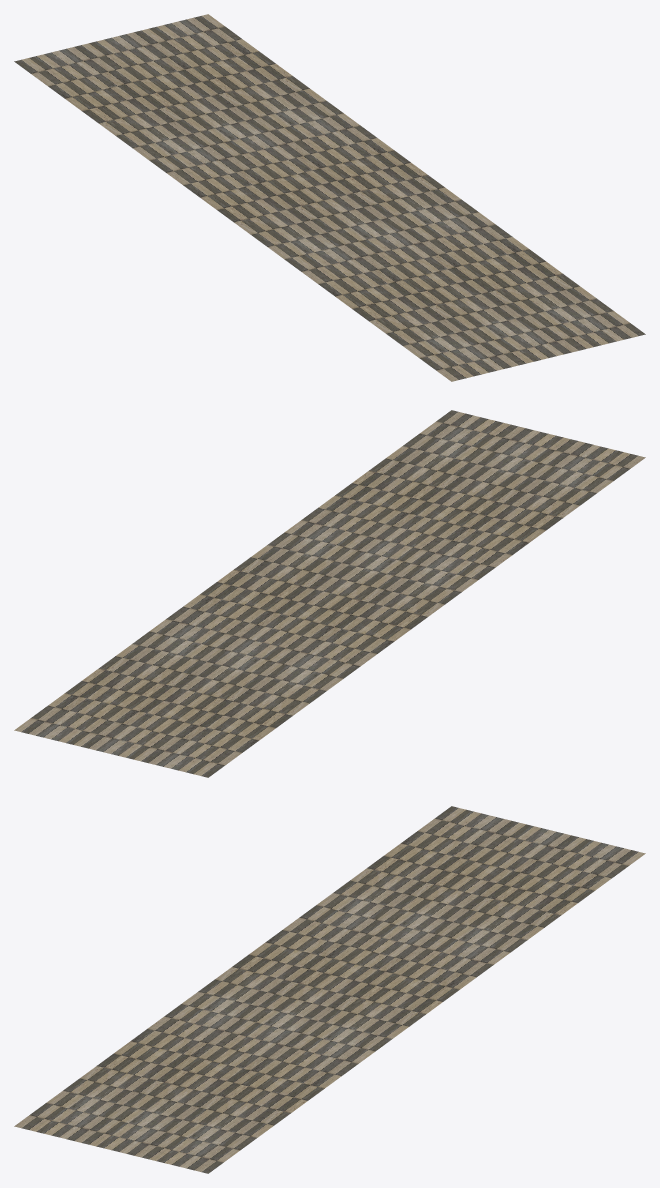
The model's file is floor.obj.
3 views of the same model, one above another, from view 1: azimuth 30°, elevation 25°; view 2: azimuth 150°, elevation 25°; view 3: azimuth 330°, elevation 25° (orthographic).
Parts seen in each view (by area): view 1: Plane; view 2: Plane; view 3: Plane.
Boxes of the visible parts, x1,y1,x2,y2 form: Plane: (14,14,645,381); Plane: (14,410,645,777); Plane: (14,806,645,1173).
Bounding box in the file's own units: 9.84 × 8e-06 × 38.37.
